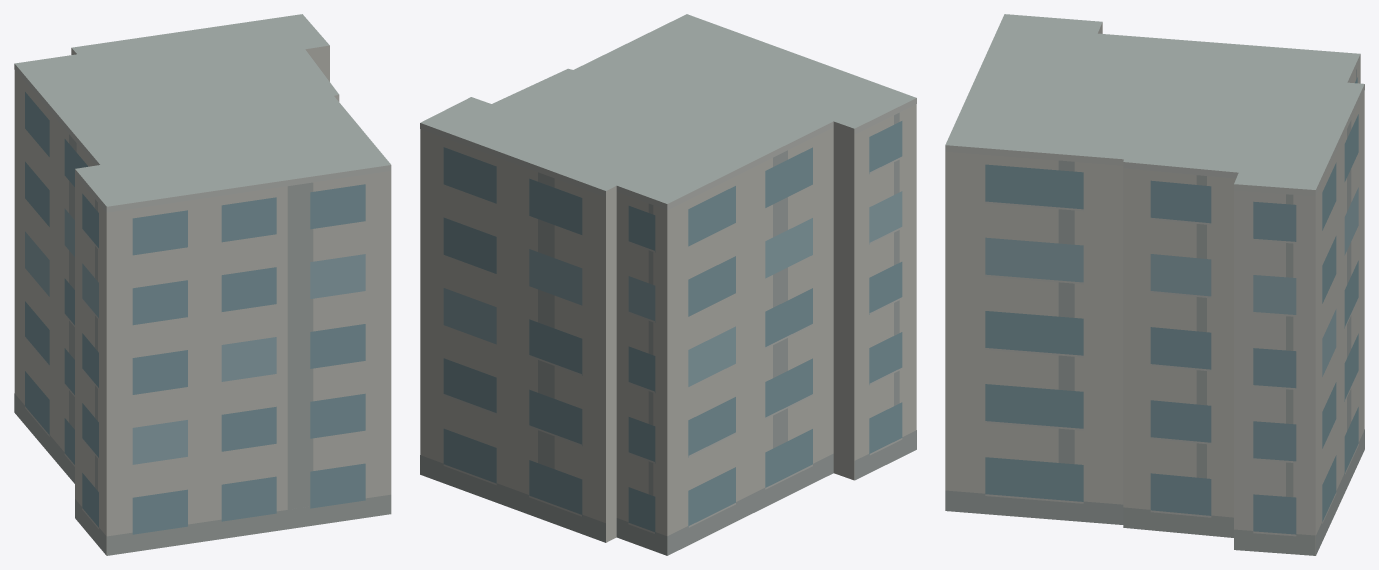
The model's file is survey-upis-32742674.glb.
3 views of the same model, side by side, from view 1: azimuth 30°, elevation 25°; view 2: azimuth 150°, elevation 25°; view 3: azimuth 270°, elevation 25° (orthographic). The views are drawn at different scales.
Visible parts, largest first — view 1: survey-upis-32742674.tmp; view 2: survey-upis-32742674.tmp; view 3: survey-upis-32742674.tmp.
Boxes of the visible parts, x1,y1,x2,y2 form: survey-upis-32742674.tmp: [14, 14, 391, 555]; survey-upis-32742674.tmp: [420, 14, 916, 555]; survey-upis-32742674.tmp: [945, 14, 1364, 555].
Bounding box in the file's own units: 14.46 × 14 × 14.56.
